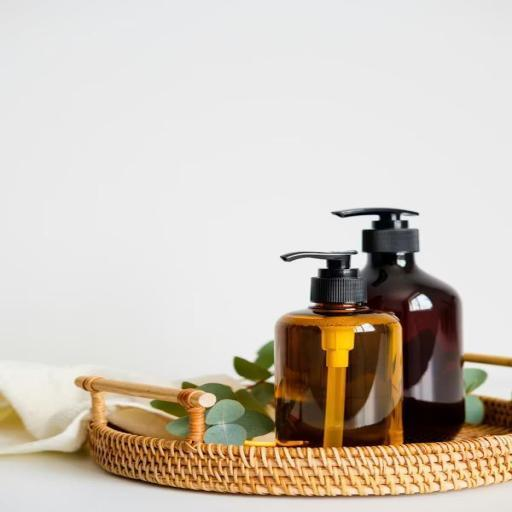bottle: (326, 190, 479, 452), (258, 240, 408, 462)
